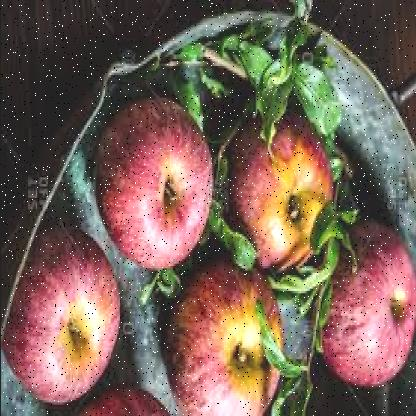apple: (17, 223, 125, 411), (100, 94, 208, 278), (176, 266, 284, 414), (238, 109, 328, 275), (320, 230, 410, 392)
